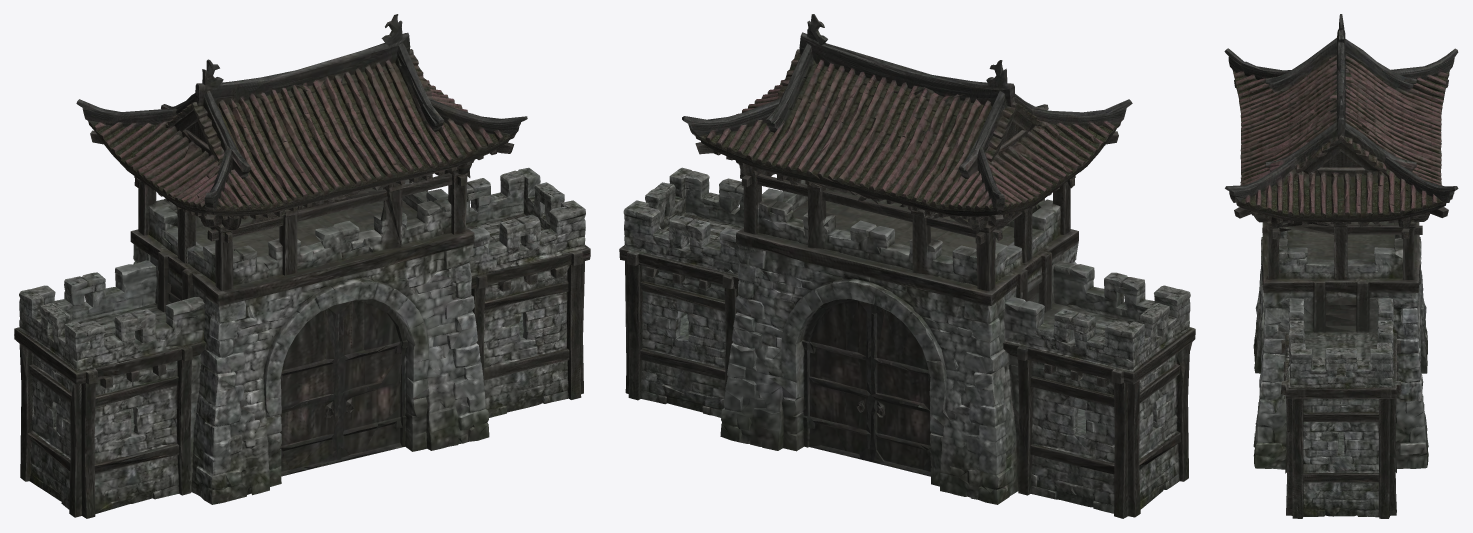
Rendered from calodangate.glb.
3 views of the same model, side by side, from view 1: azimuth 30°, elevation 25°; view 2: azimuth 150°, elevation 25°; view 3: azimuth 270°, elevation 25° (orthographic). The views are drawn at different scales.
Visible parts, largest first — view 1: calodangate-centred; view 2: calodangate-centred; view 3: calodangate-centred.
Part boxes in pixels (bbox=[...]): calodangate-centred: bbox=[14, 14, 590, 518]; calodangate-centred: bbox=[619, 14, 1195, 518]; calodangate-centred: bbox=[1224, 14, 1458, 518].
Bounding box in the file's own units: 32 × 23.67 × 14.18.
1 material, 1 textured.
